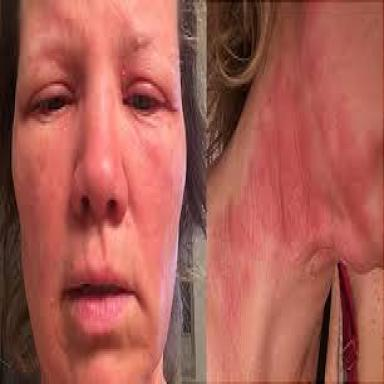burn: (13, 1, 186, 375), (210, 0, 383, 337)
